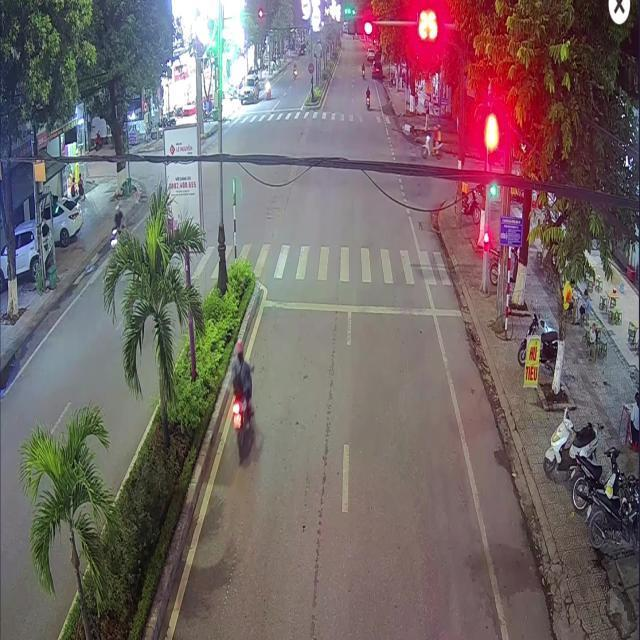motobike: (231, 382, 252, 460)
red_light: (346, 15, 373, 36), (486, 135, 495, 168), (483, 236, 487, 254)
stop_line: (263, 299, 460, 315)
